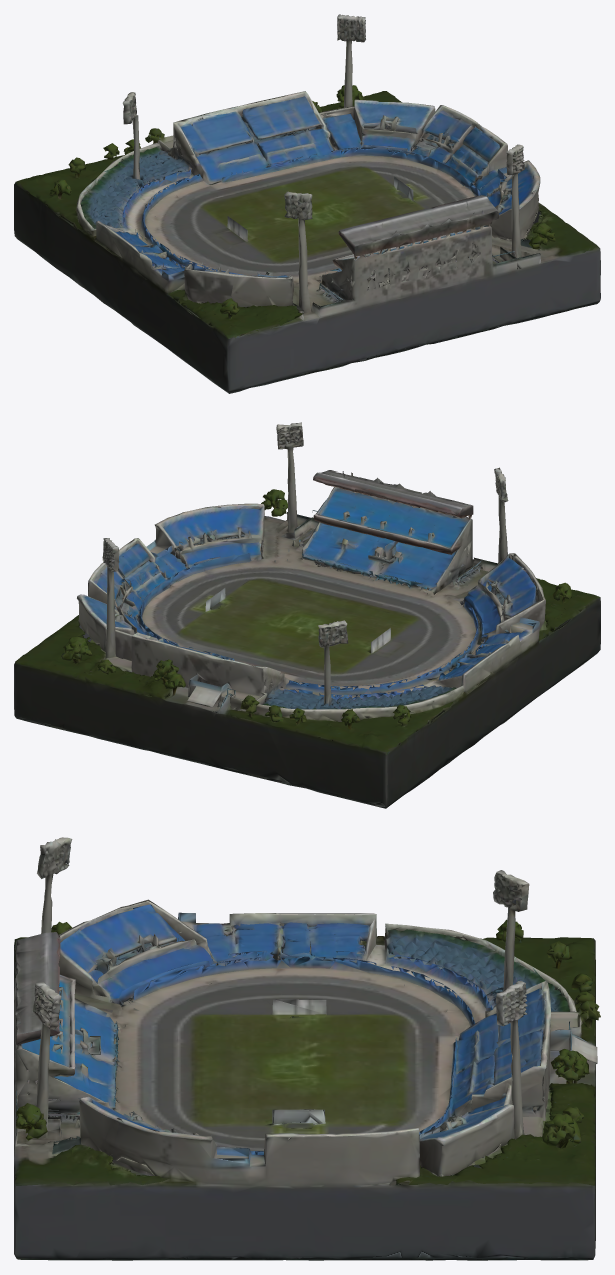
The model's file is suez-stadium-2.glb.
3 renders of one model, top to bottom at view 1: azimuth 30°, elevation 25°; view 2: azimuth 150°, elevation 25°; view 3: azimuth 270°, elevation 25°, orthographic. The views are drawn at different scales.
Size of the model in its own units: 0.9995 by 0.4376 by 1.
1 material, 1 textured.
